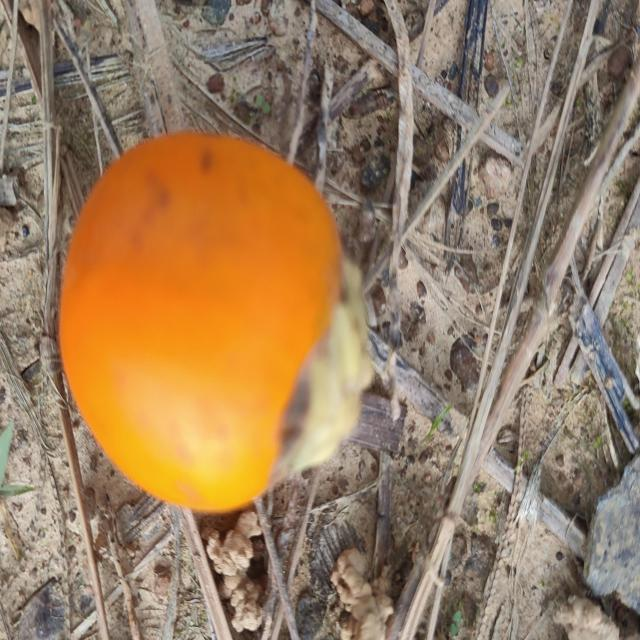good: (56, 131, 373, 517)
